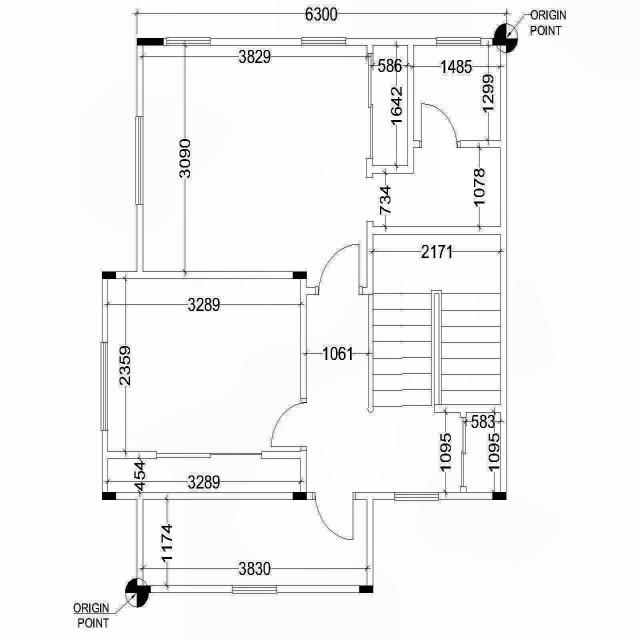Column: (136, 38, 164, 46), (358, 585, 374, 593), (292, 492, 308, 500), (492, 38, 507, 46), (492, 492, 507, 500), (292, 272, 307, 280), (137, 585, 151, 593), (102, 492, 116, 500), (102, 271, 116, 279)
Door: (316, 244, 362, 295), (312, 492, 356, 542), (271, 398, 307, 451), (419, 104, 461, 148)
Sliding Door: (156, 452, 262, 459), (366, 54, 373, 158), (459, 417, 466, 492)
Staircase: (373, 234, 500, 404)
Window: (136, 116, 144, 205), (100, 342, 108, 430), (436, 38, 481, 46), (394, 492, 439, 500), (232, 586, 277, 594), (302, 38, 346, 46), (167, 38, 210, 46)
